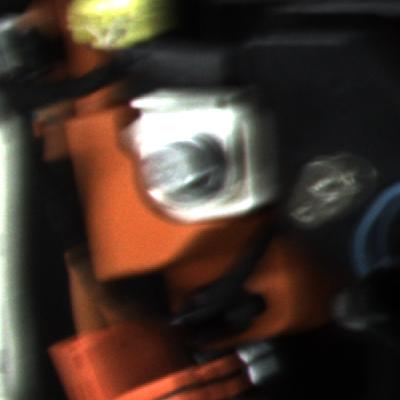nut_b: (132, 130, 232, 208)
